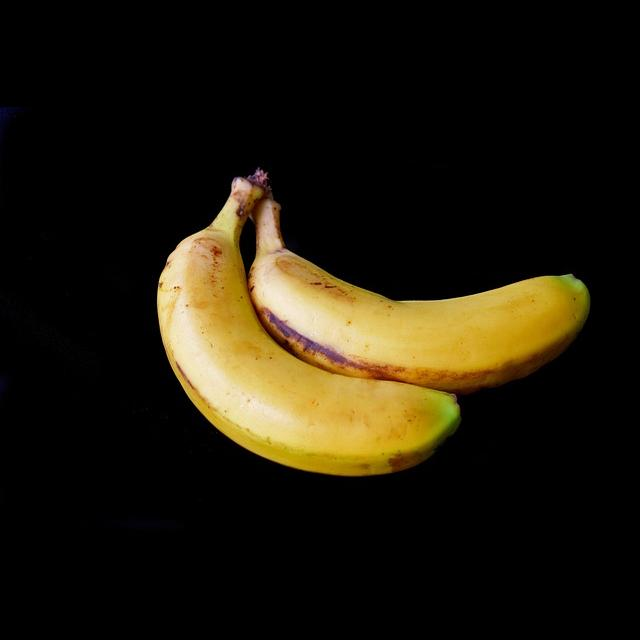apple: (132, 215, 476, 500), (259, 226, 610, 384)
